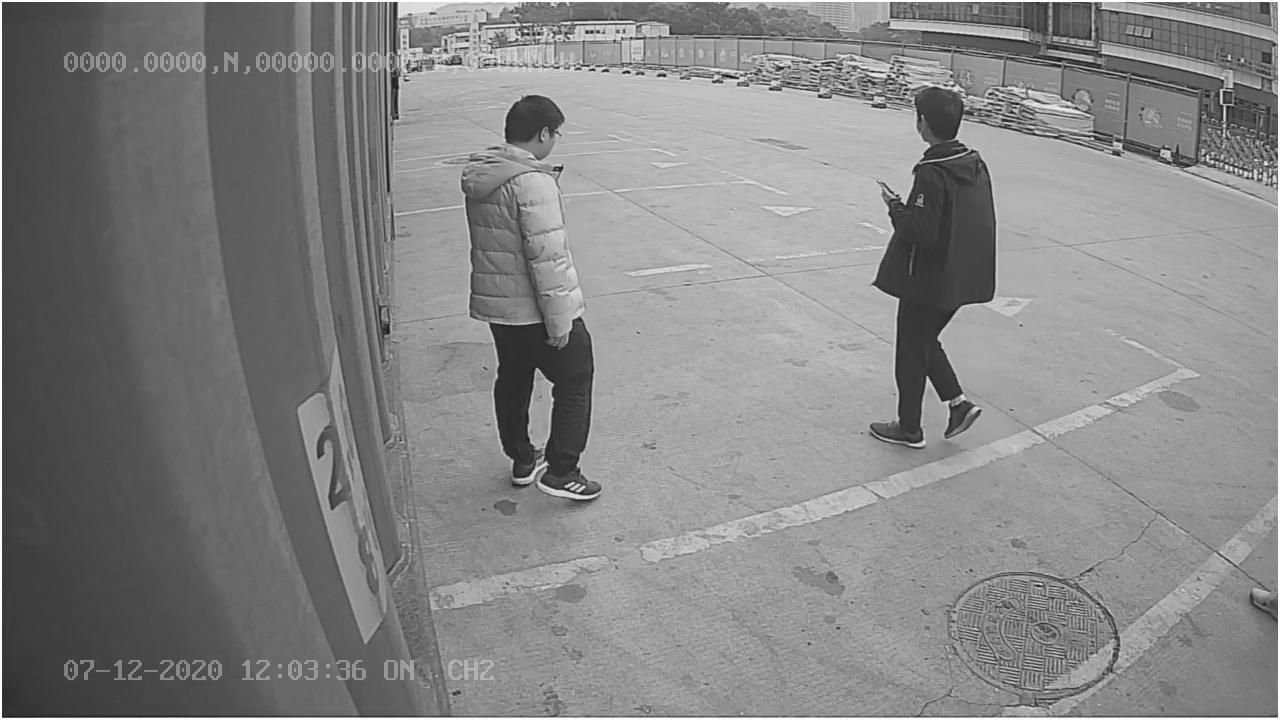person: (454, 92, 605, 499), (852, 79, 1002, 451)
